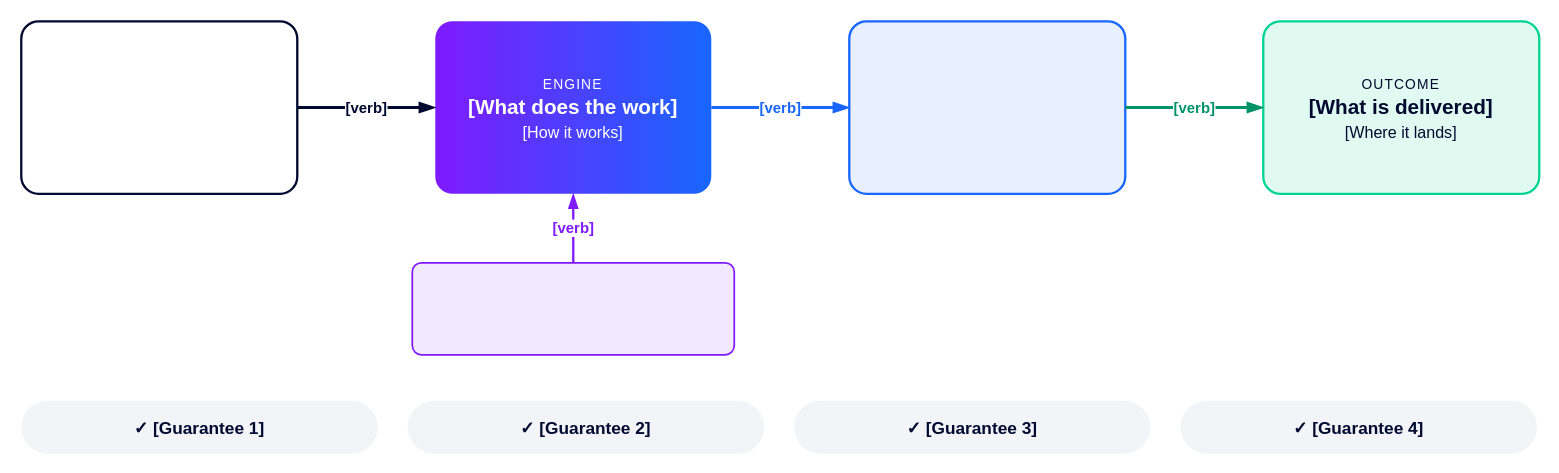
This 1559x473 diagram has some shape labels left out. Each missing label, with the centre of its shape:
"[Supporting element] [What it adds]" goes at (x=573, y=308).
"DATA [Where the data lives] [What it holds]" goes at (x=987, y=107).
"PEOPLE [Who asks] [What they do]" goes at (x=159, y=107).
